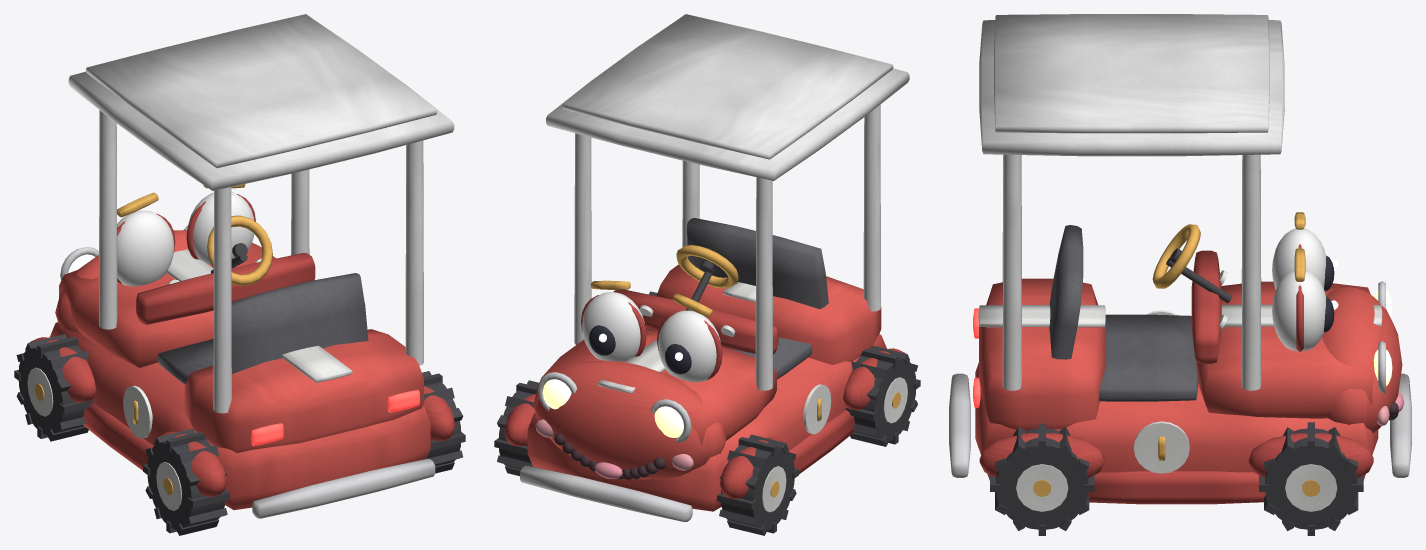
File: coupe.glb
3 renders of one model, left to right at view 1: azimuth 30°, elevation 25°; view 2: azimuth 150°, elevation 25°; view 3: azimuth 270°, elevation 25°, orthographic. The views are drawn at different scales.
Visible parts, largest first — view 1: coupe_body; view 2: coupe_body, PupilR, PupilL; view 3: coupe_body.
Boxes of the visible parts, box(x1,y1,x2,y2) form: coupe_body: box(14, 14, 465, 535); coupe_body: box(494, 14, 920, 535); PupilR: box(589, 325, 615, 355); PupilL: box(665, 344, 691, 374); coupe_body: box(949, 14, 1411, 535).
Size of the model in its own units: 0.88 by 1.18 by 1.24.
Materials: 16 (11 with a texture image).
